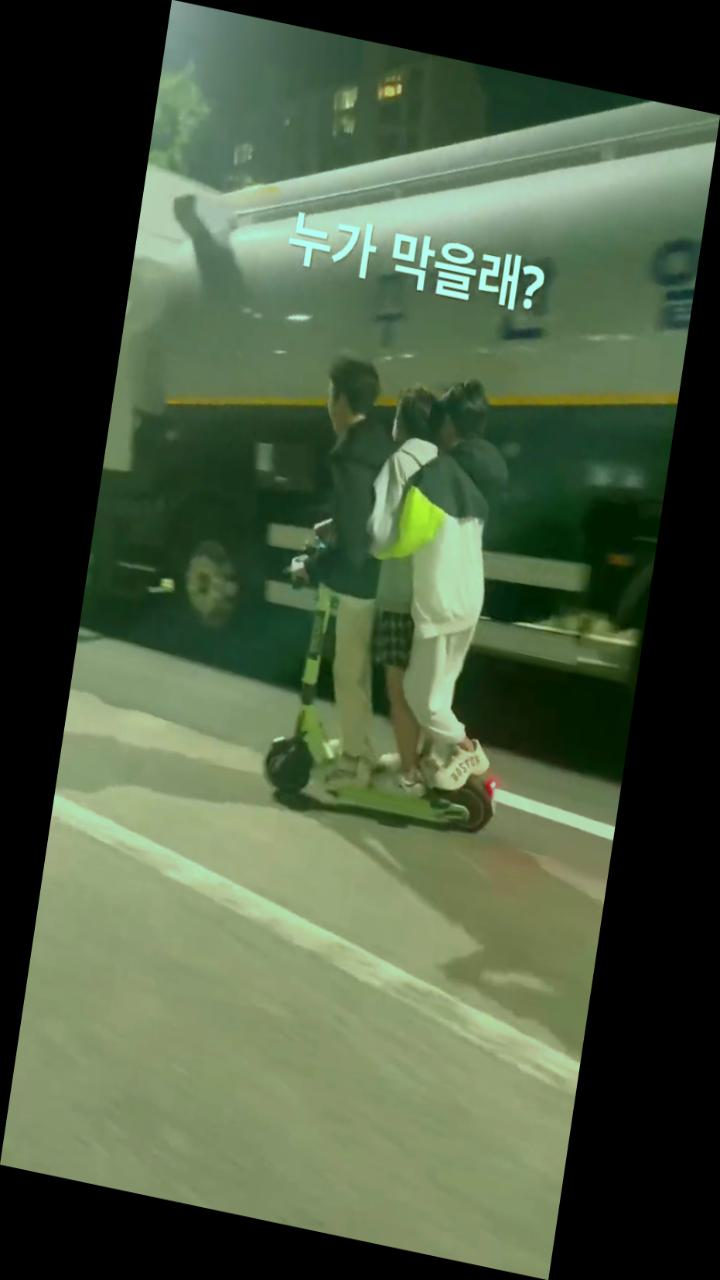multiple: (253, 342, 561, 855)
